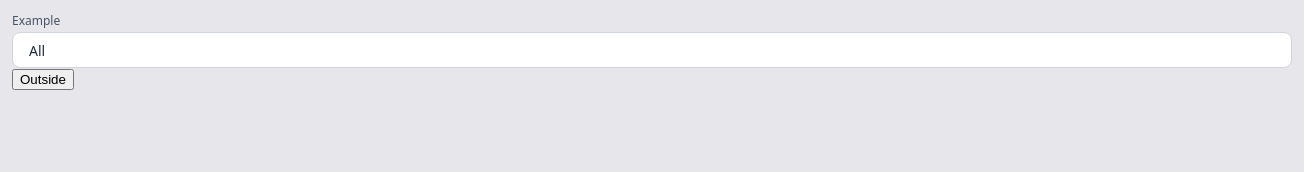
Test: MultiSelect › offers All even with no options and closes when focus leaves
Later steps or results of the test are not shown.
Click the button with aria-label "Example".
click(37, 50)  # box [12,32,1292,68]
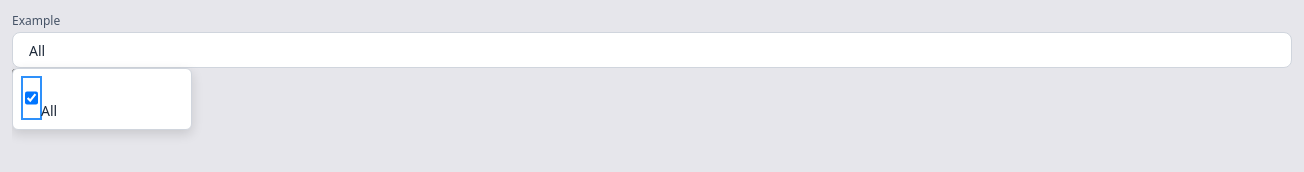
Now the number of checkboxes is 1, box [25,80,38,116]
